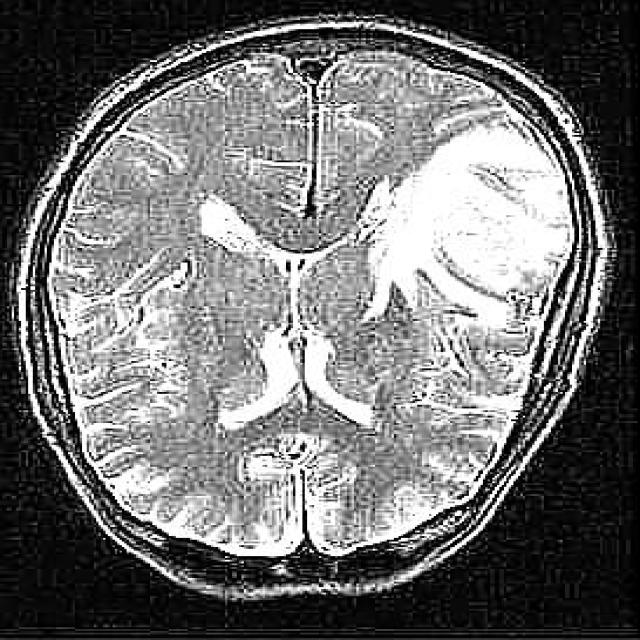Tumor-Cell: (363, 116, 569, 334)
